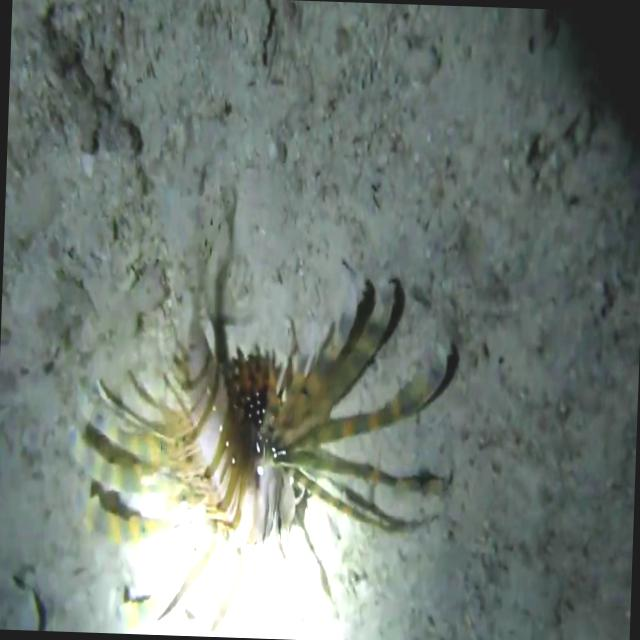Aslan Baligi: (66, 174, 466, 640)
